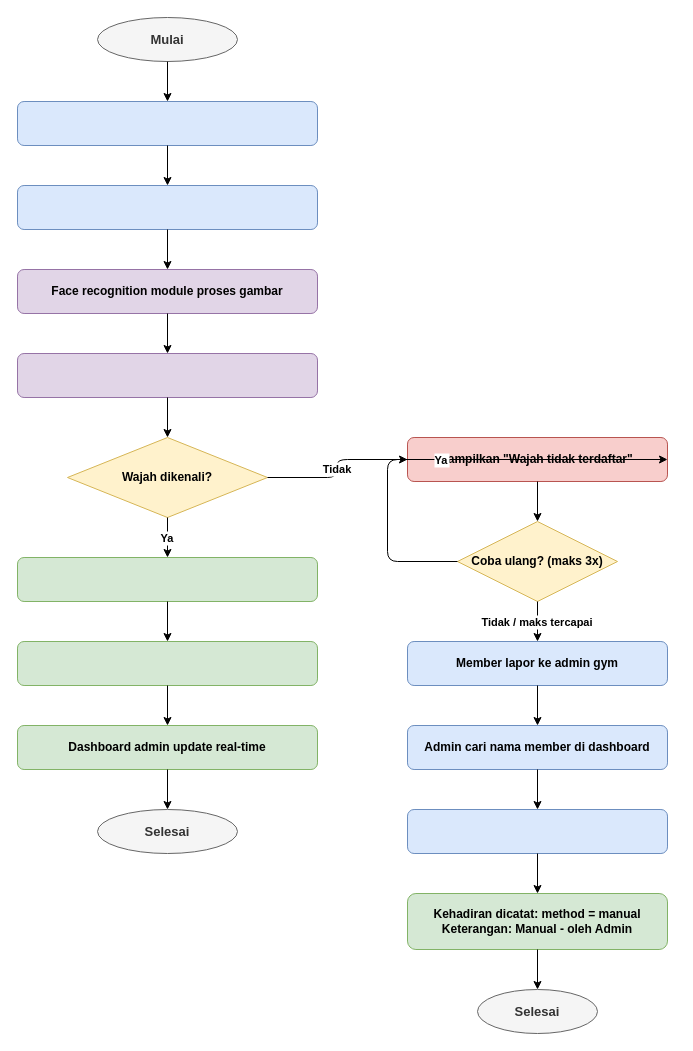
The diagram is 693 pixels wide and 1051 high, and some of its shapes have lost their labels. The shapes that lost their labels are listed below. From the top down, each one's box as (x1, y1, x2, y2) in pixels, then its label:
(16, 100, 318, 146): Member berdiri di depan kamera
(16, 184, 318, 230): Kamera / tablet capture gambar wajah
(16, 352, 318, 398): Bandingkan face embedding dengan database
(16, 556, 318, 602): Sistem catat kehadiran otomatis ke DB
(16, 640, 318, 686): Tampilkan "Check-in berhasil" di layar
(406, 808, 668, 854): Admin klik "Catat kehadiran manual"
